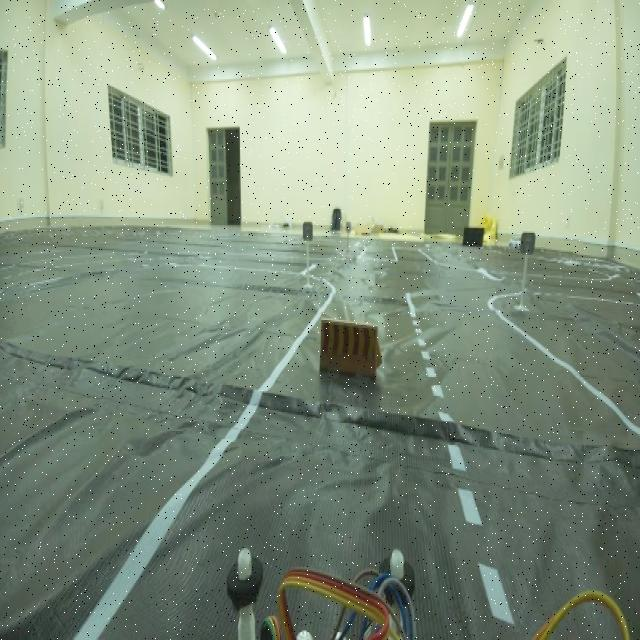roadblock: (314, 308, 389, 391)
